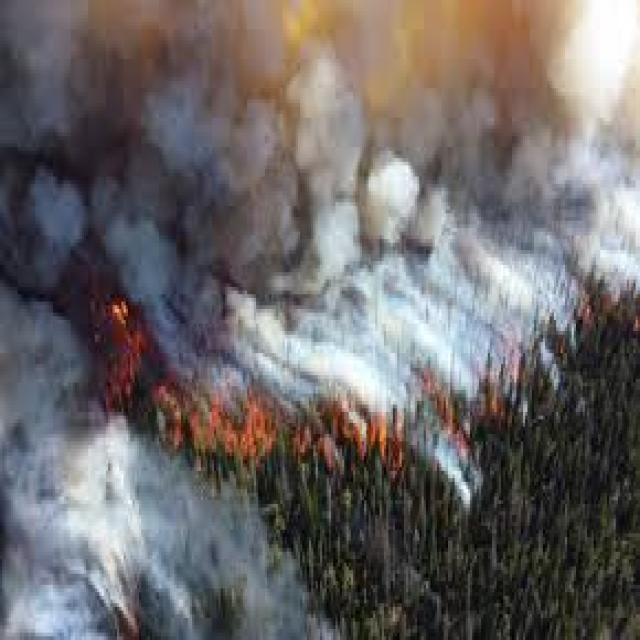Smoke: (160, 0, 323, 410), (0, 288, 159, 640), (0, 0, 161, 286), (326, 0, 499, 259), (498, 0, 638, 310), (326, 261, 501, 507), (158, 441, 352, 638)
